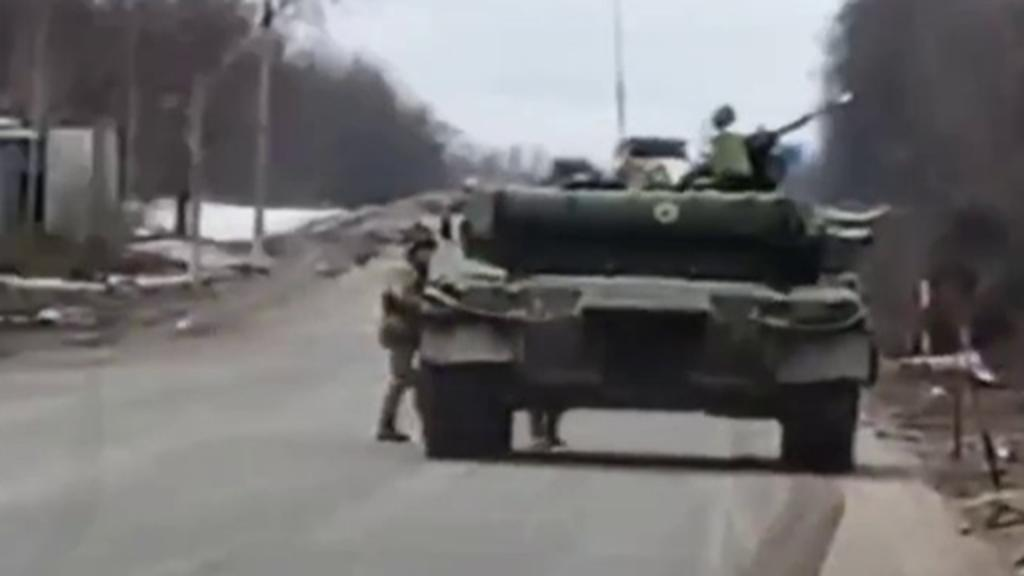TANK: (406, 114, 866, 480)
